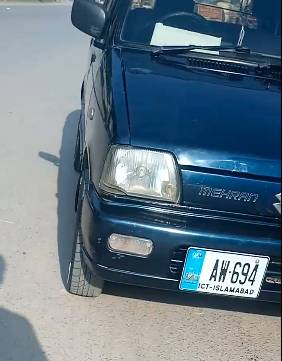number_plate: (180, 247, 268, 301)
